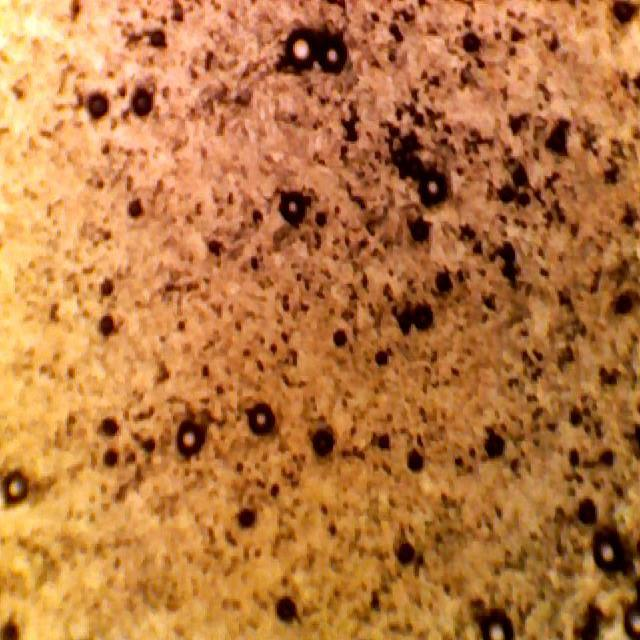microbeads: (282, 22, 322, 74), (173, 417, 210, 459), (278, 184, 310, 232), (305, 422, 339, 462), (248, 402, 280, 438), (127, 86, 157, 122), (480, 428, 508, 464), (390, 536, 420, 568), (272, 594, 300, 626), (85, 88, 109, 124), (232, 502, 260, 530), (405, 446, 427, 478), (92, 311, 116, 339), (98, 416, 120, 442), (99, 274, 118, 298), (373, 345, 391, 369), (125, 200, 145, 220), (332, 326, 348, 350)
